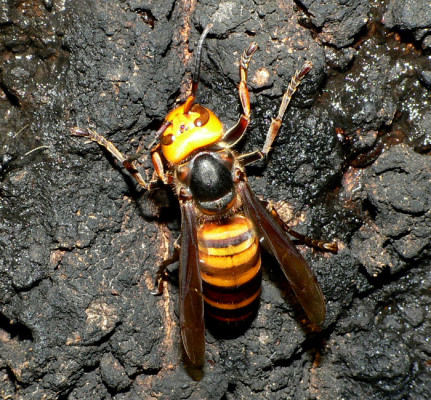asian_giant_hornet: (68, 50, 314, 343)
